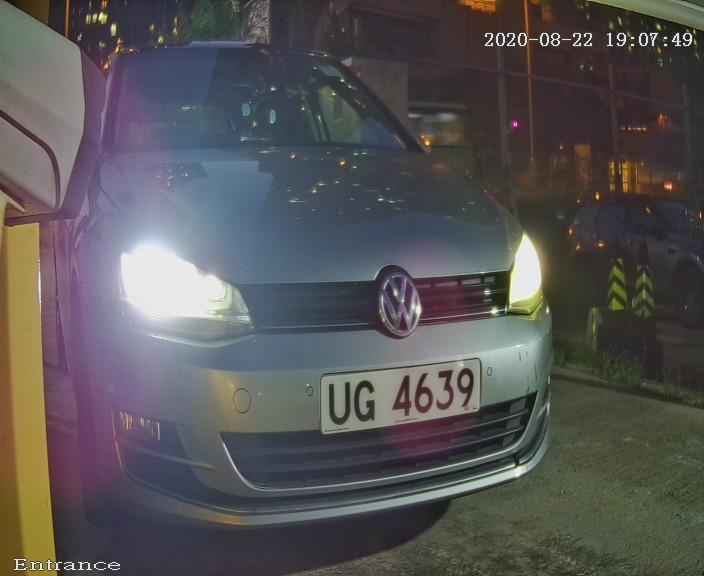License Plate: (318, 350, 497, 440)
